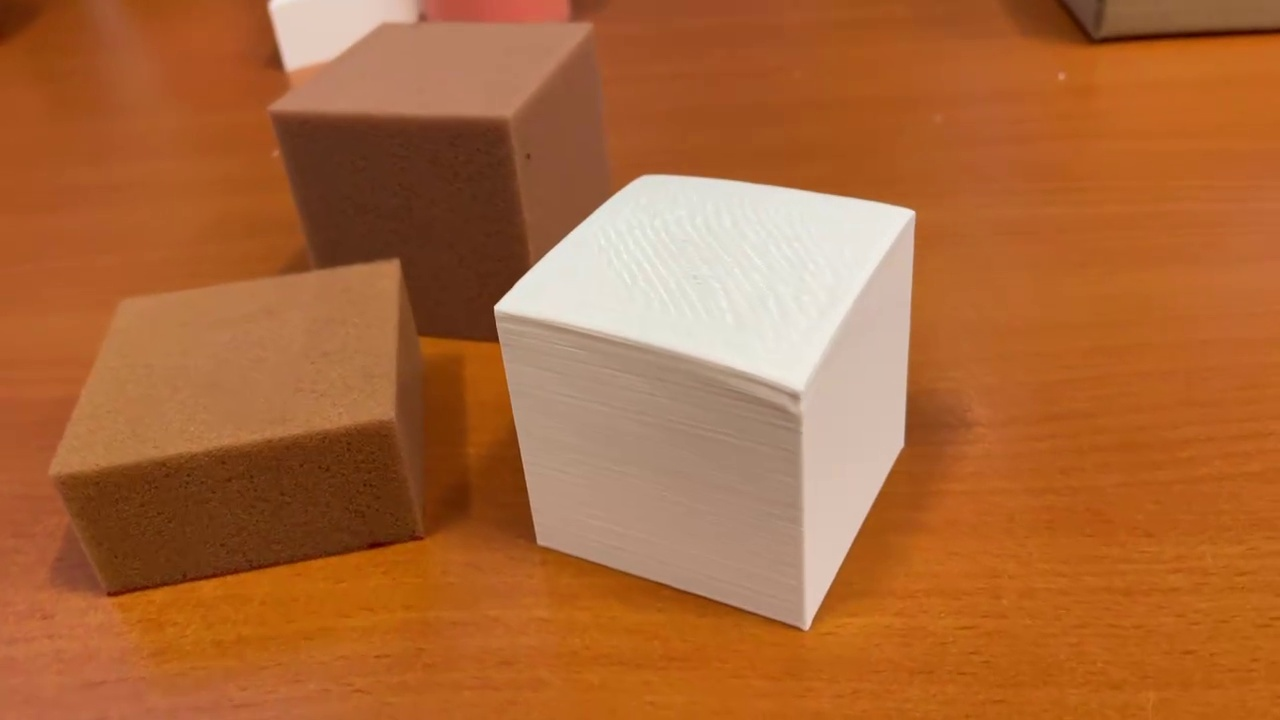Cube: (487, 164, 918, 634), (267, 23, 607, 343)
Cube_short: (43, 256, 439, 603)
